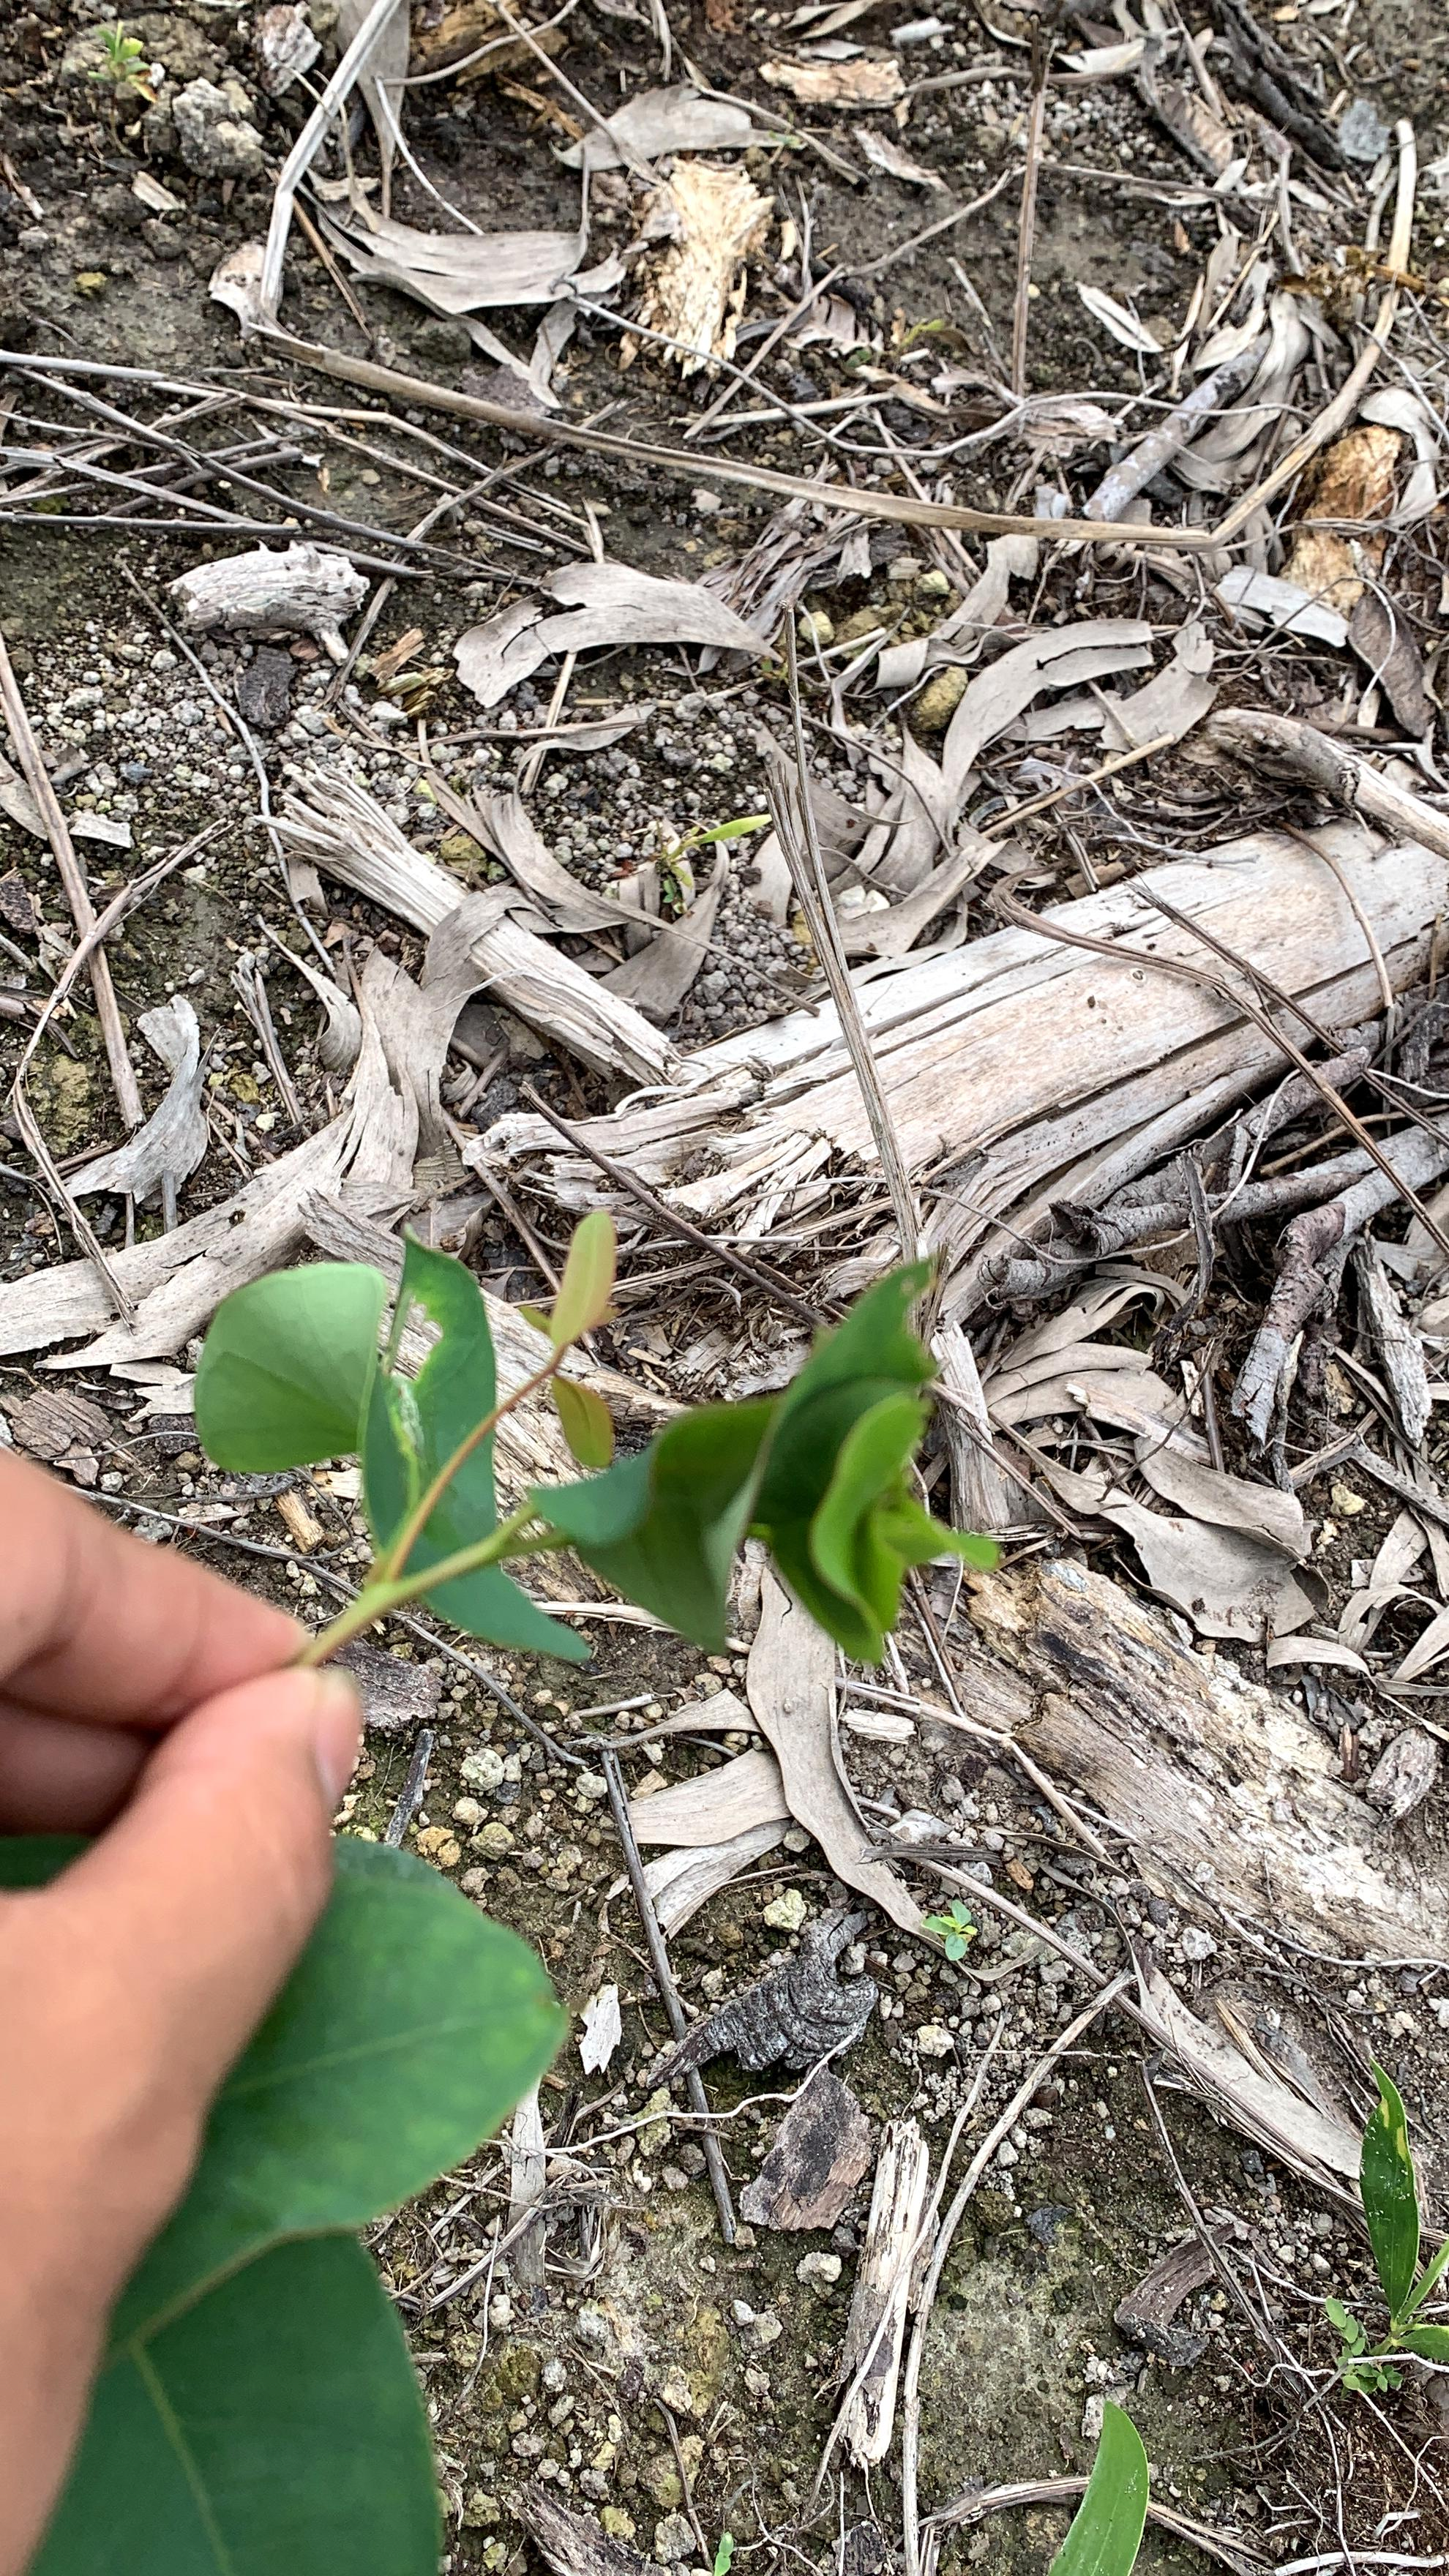Leaf Roller - Leaf: (557, 1307, 978, 1662)
